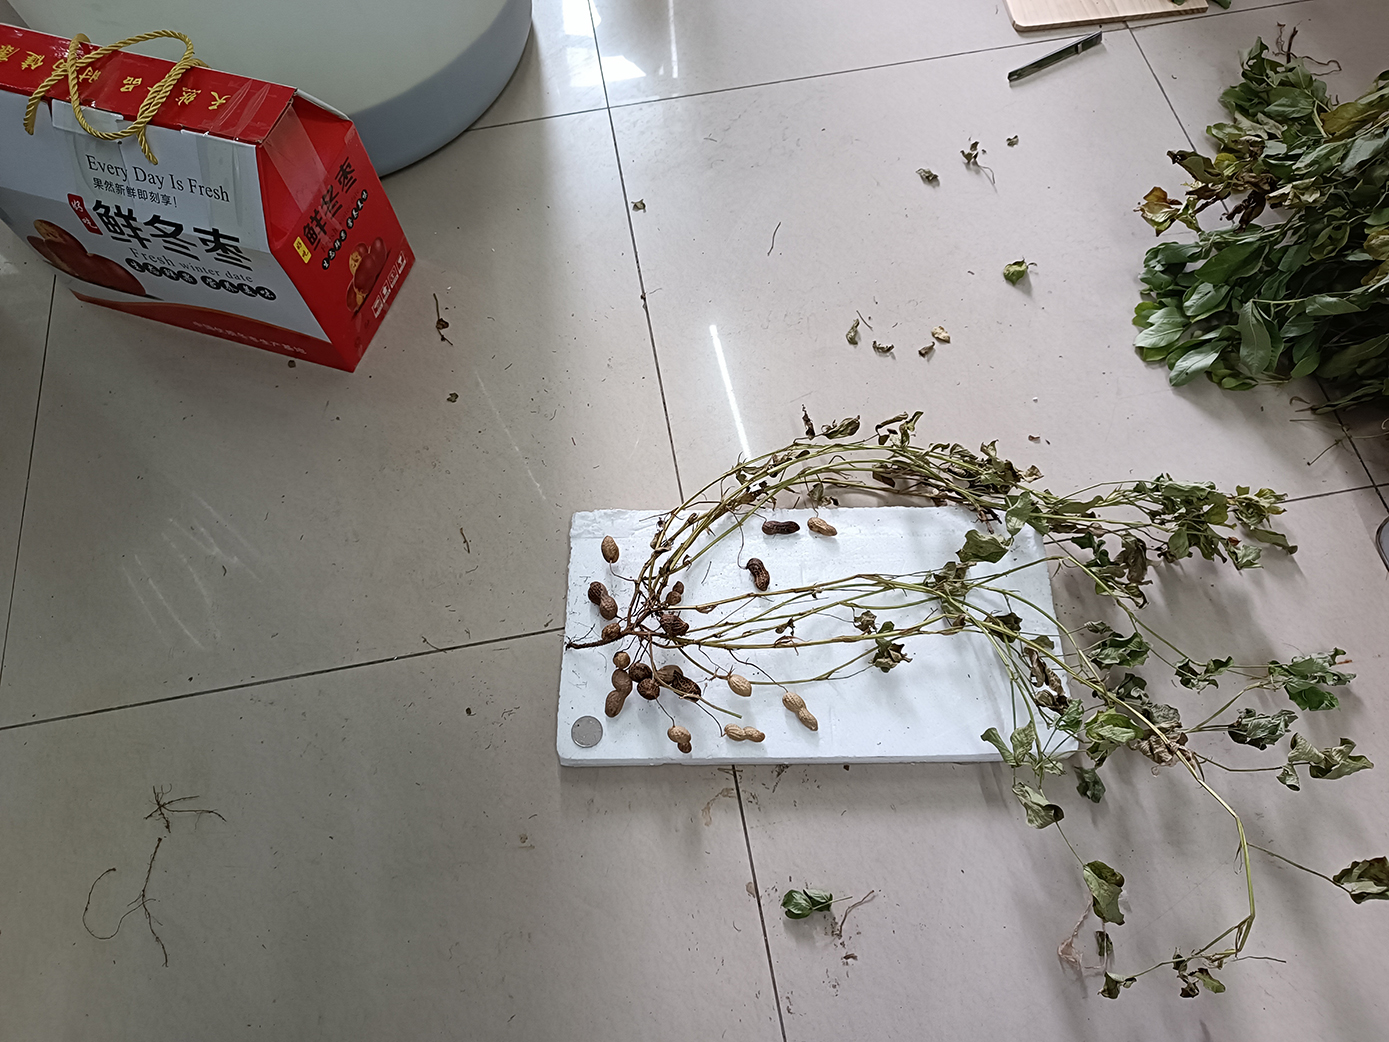h: (782, 692, 818, 732), (604, 668, 633, 718), (724, 723, 765, 743), (667, 725, 692, 754), (807, 517, 838, 537), (727, 674, 752, 698), (601, 535, 620, 564), (613, 651, 630, 668)
l: (656, 664, 701, 703), (587, 581, 618, 621), (628, 663, 660, 701), (746, 557, 769, 592), (761, 520, 800, 536), (659, 614, 688, 635), (665, 580, 684, 606), (601, 623, 621, 642)
